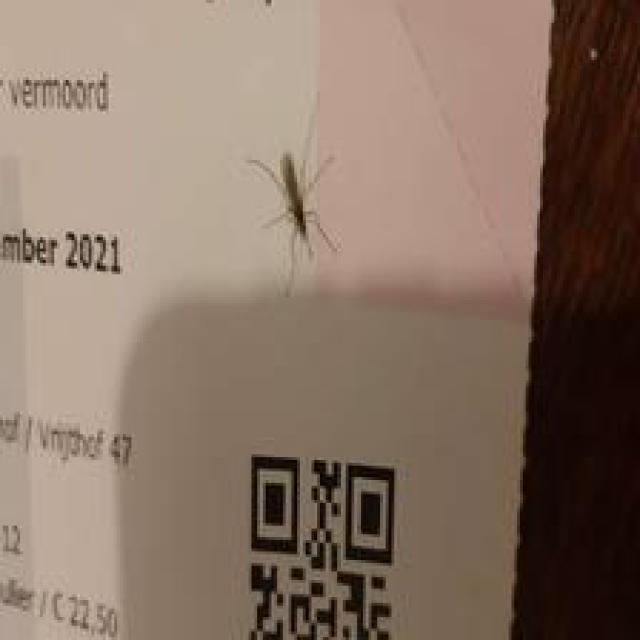Culex: (247, 149, 342, 294)
